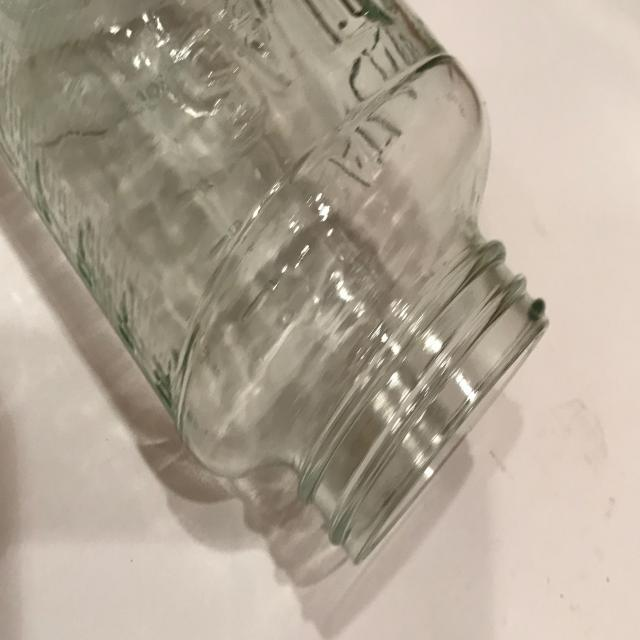glass: (1, 0, 548, 569)
